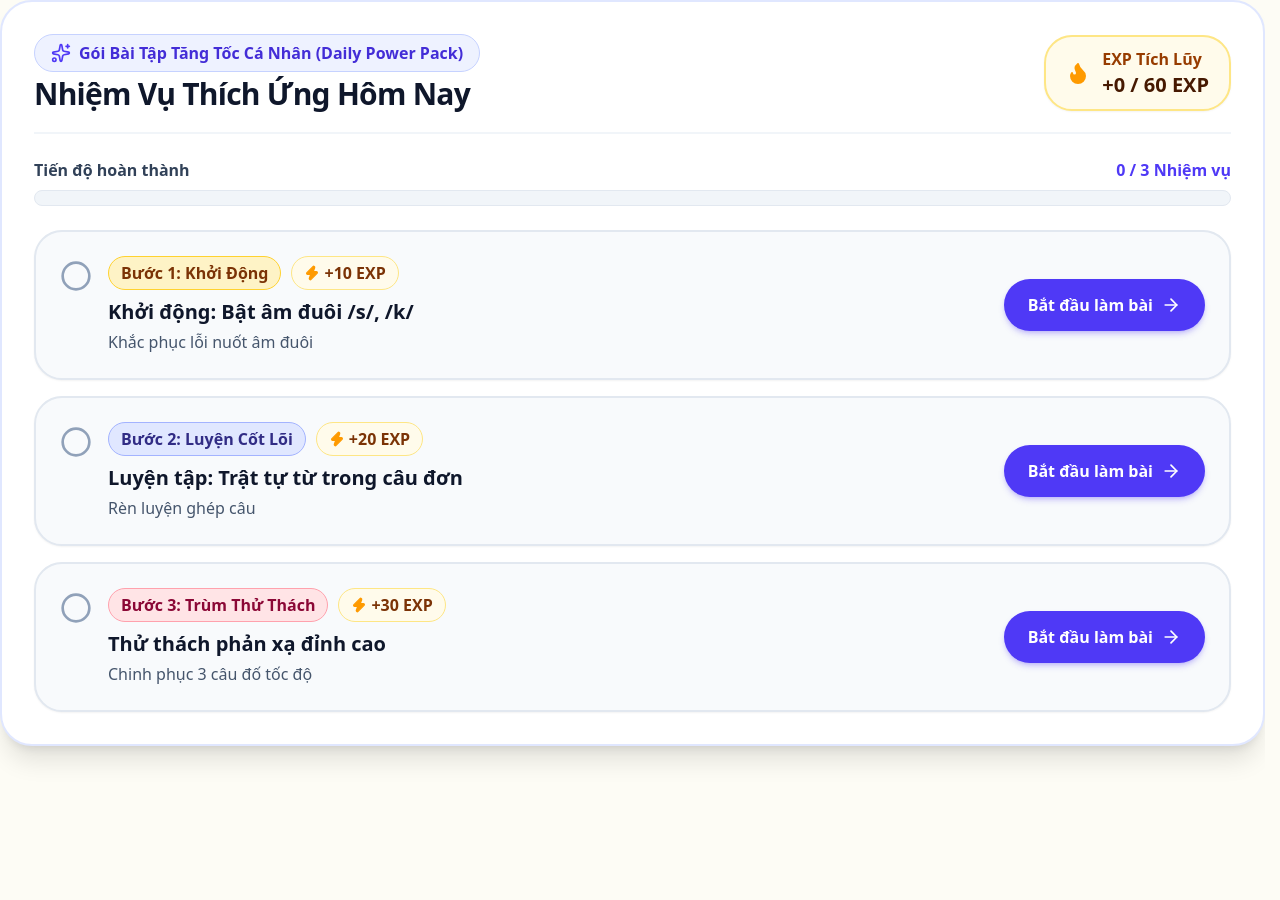
Test case: AdaptivePowerPack Component › displays celebratory banner when all steps are completed
This screenshot has width=1280, height=900.
Complete all 3 steps
What coordinates should you click on to do the following:
click the button named "đánh dấu bước 1"
I would click on:
 (76, 276)
Its box is [60,260,92,292].
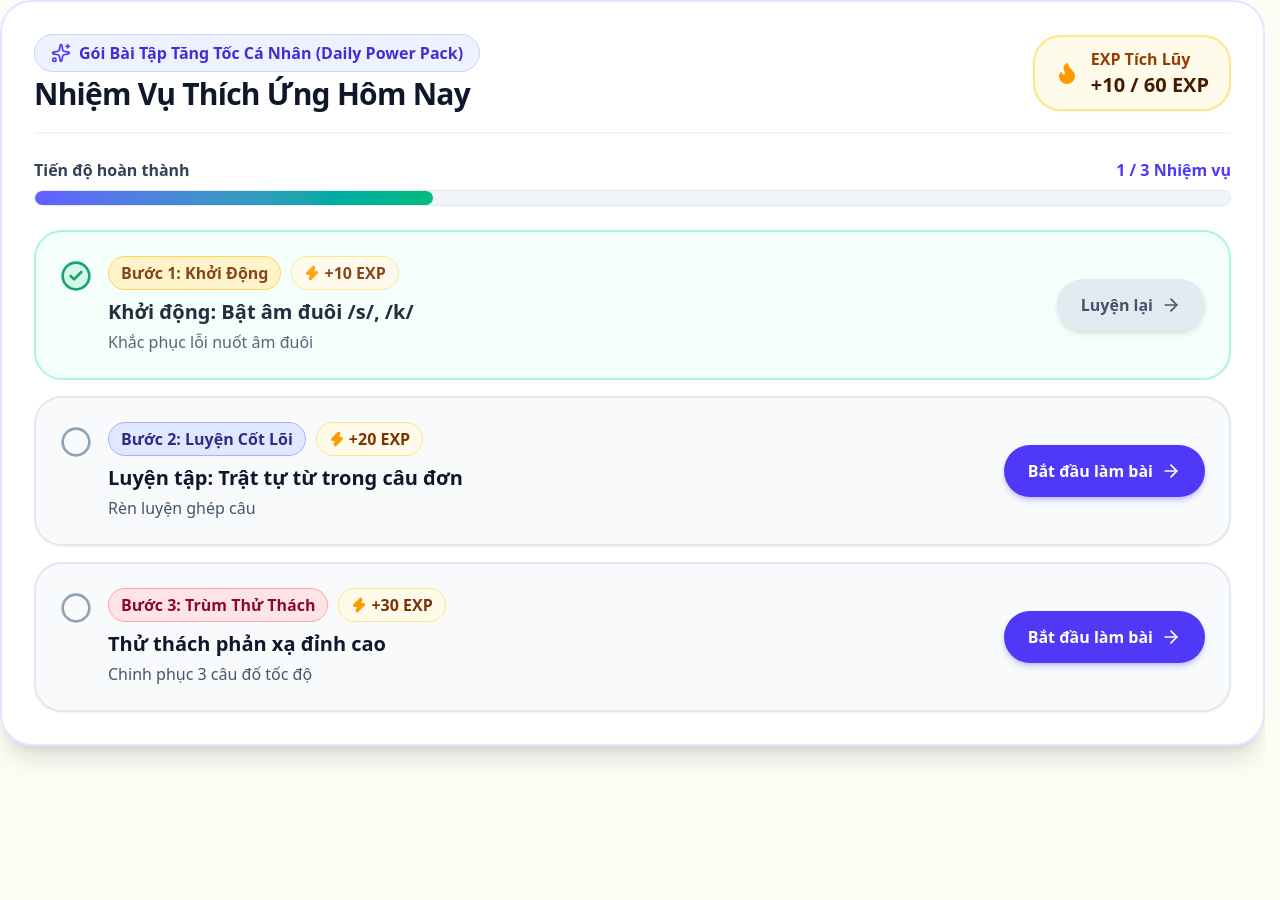
What coordinates should you click on to do the following:
click the button named "đánh dấu bước 2"
I would click on:
 (76, 442)
Its box is [60,426,92,458].
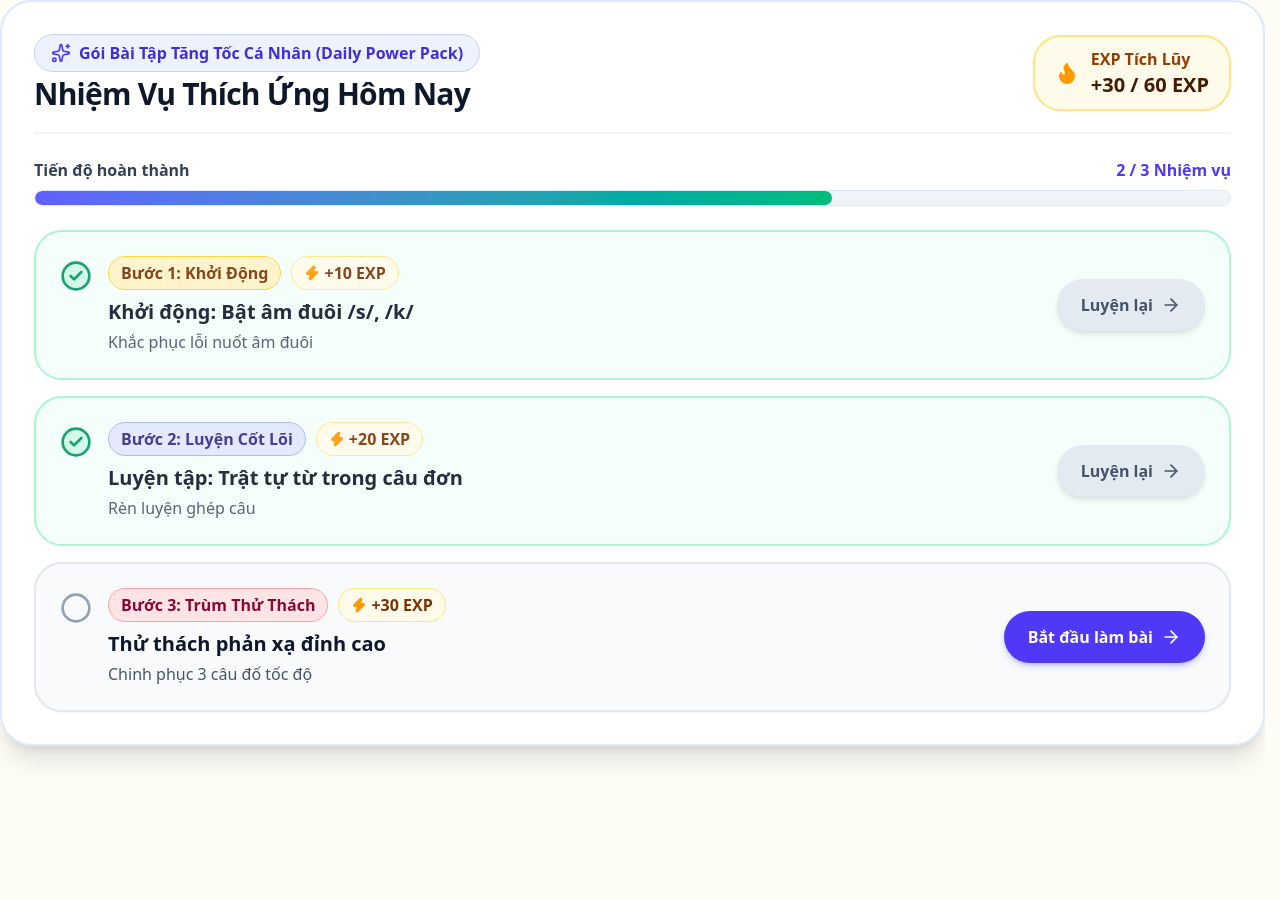
What coordinates should you click on to do the following:
click the button named "đánh dấu bước 3"
I would click on:
 (76, 608)
Its box is [60,592,92,624].
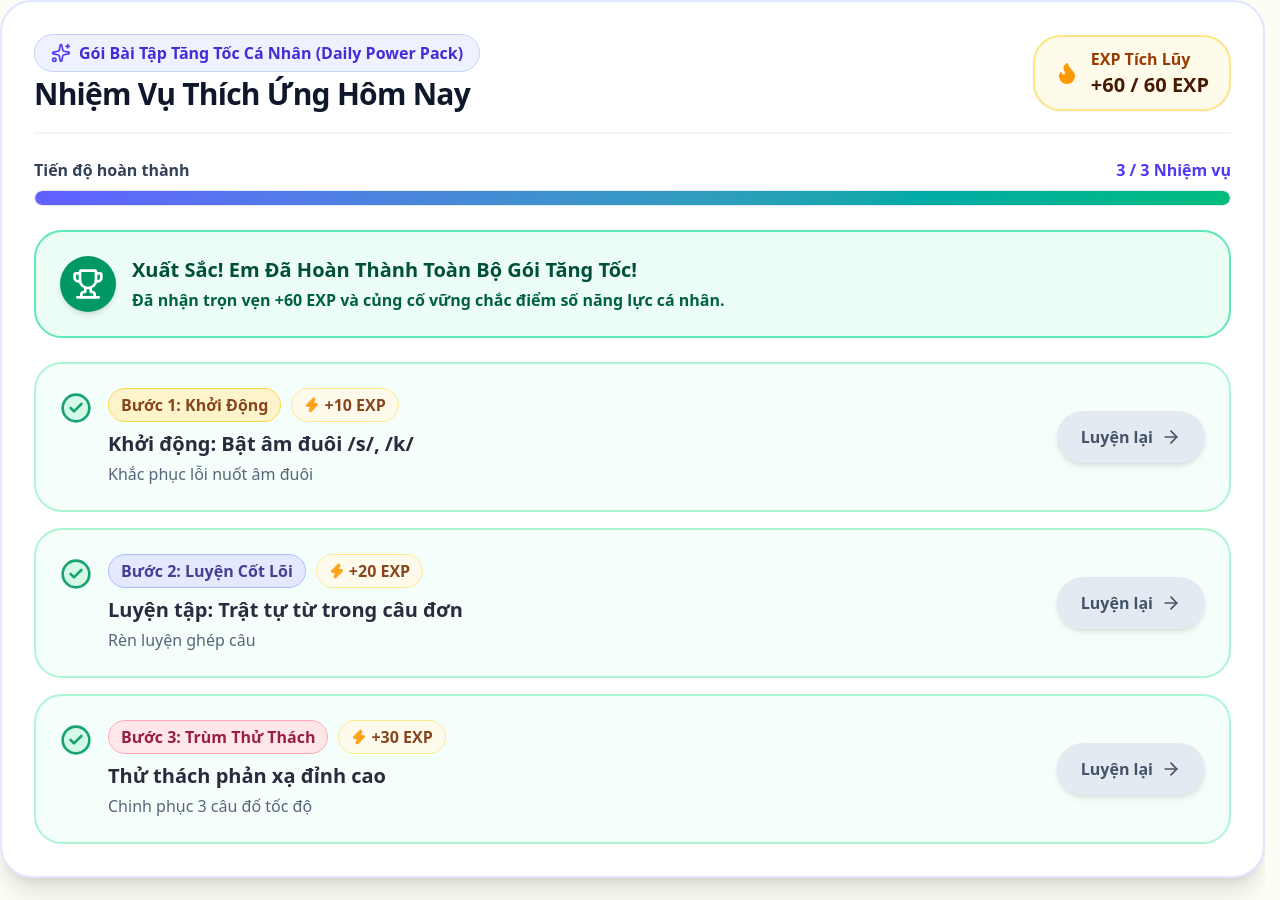
Expected: the heading "Xuất Sắc! Em Đã Hoàn Thành Toàn Bộ Gói Tăng Tốc!" is shown, [132,256,725,284]
Expected: the text "+60 / 60 EXP" is shown, [1091,71,1209,98]
